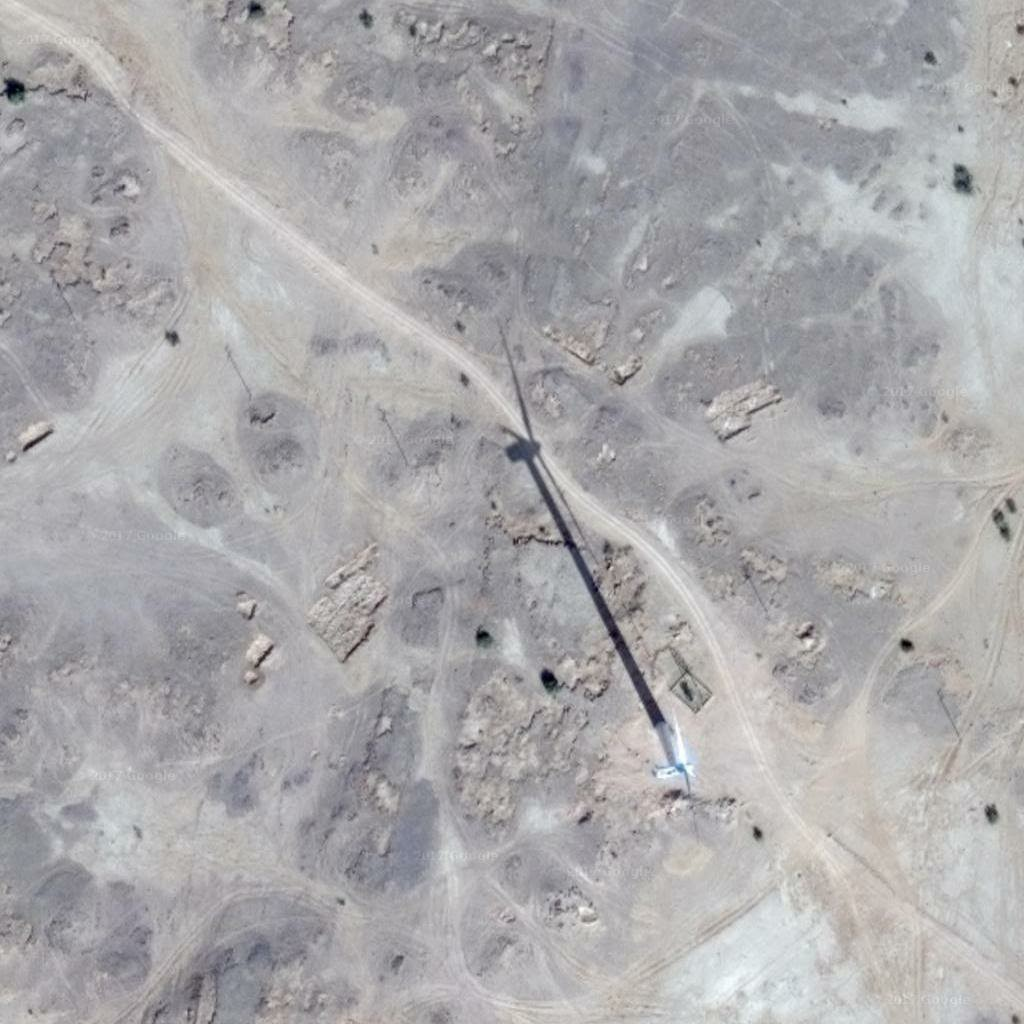Windmill: (484, 323, 681, 721)
